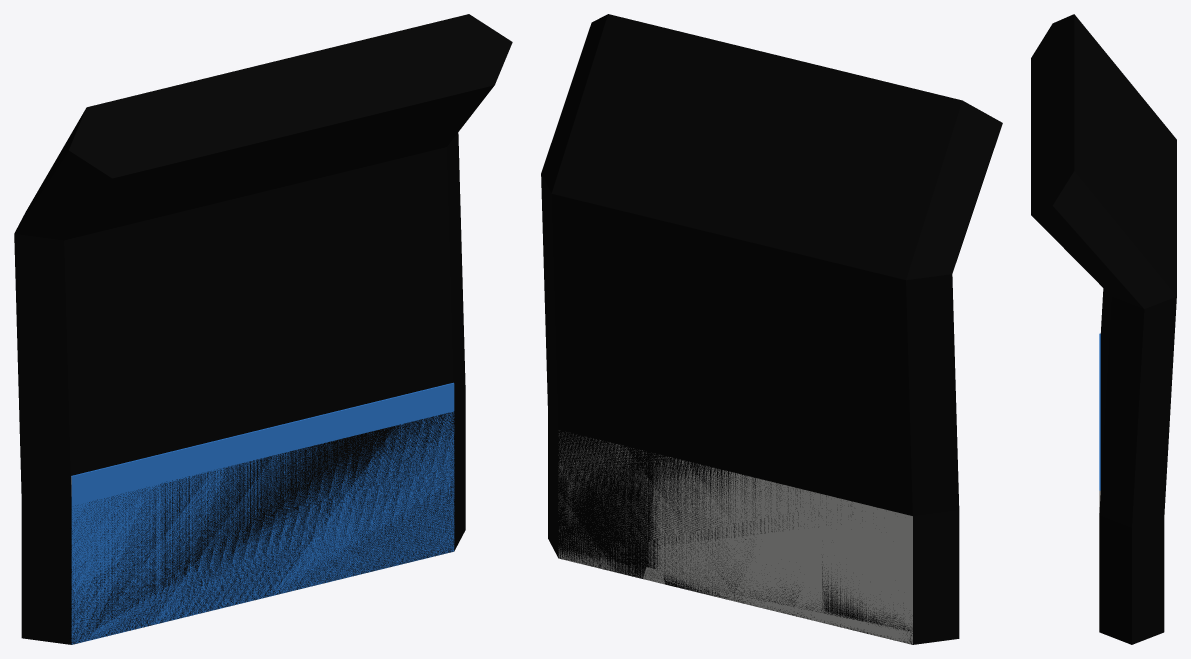
File: barrierfence_folk.dae
3 renders of one model, left to right at view 1: azimuth 30°, elevation 25°; view 2: azimuth 150°, elevation 25°; view 3: azimuth 270°, elevation 25°, orthographic. The views are drawn at different scales.
Parts seen in each view (by area): view 1: Colmesh-1, barrierfence_folk_a030, barrierfence_folk_a060, barrierfence_folk_a200; view 2: Colmesh-1, barrierfence_folk_a030, barrierfence_folk_a200, barrierfence_folk_a060; view 3: Colmesh-1, barrierfence_folk_a030.
Boxes of the visible parts, box(x1,y1,x2,y2) form: Colmesh-1: box(14, 14, 512, 644); barrierfence_folk_a030: box(71, 382, 454, 644); barrierfence_folk_a060: box(72, 411, 454, 644); barrierfence_folk_a200: box(73, 412, 454, 644); Colmesh-1: box(541, 14, 1002, 644); barrierfence_folk_a030: box(558, 430, 912, 644); barrierfence_folk_a200: box(558, 431, 912, 644); barrierfence_folk_a060: box(559, 434, 912, 631); Colmesh-1: box(1031, 14, 1176, 644); barrierfence_folk_a030: box(1099, 333, 1100, 512).
Bounding box in the file's own units: 3.31 × 1.12 × 3.91.
